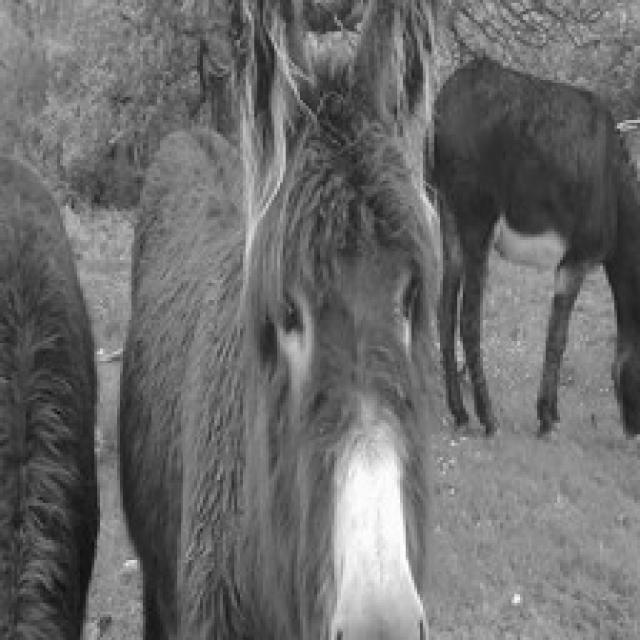Donkey: (114, 0, 446, 637), (426, 49, 637, 452), (0, 146, 100, 637)
